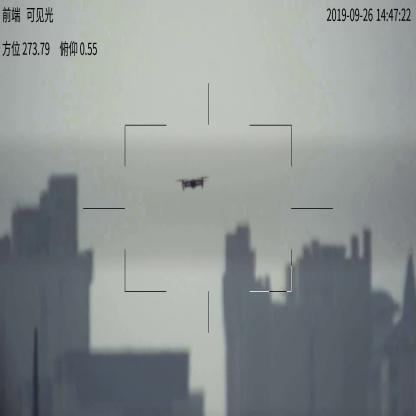uav: (182, 172, 218, 193)
